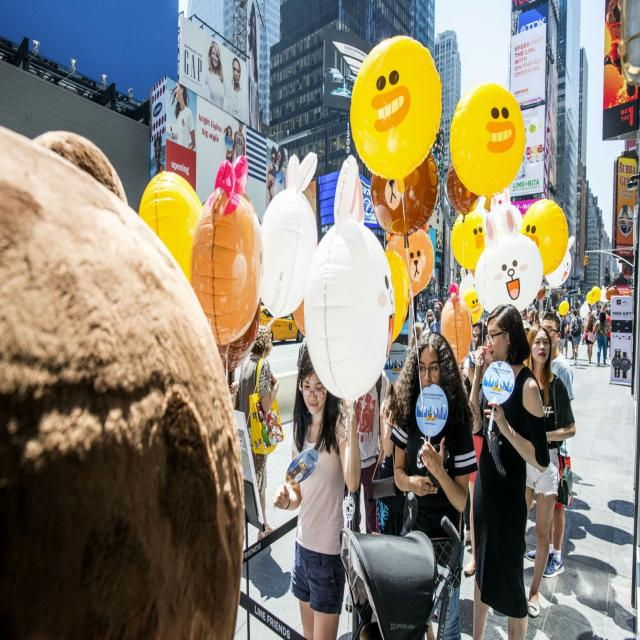body: (0, 123, 241, 637), (380, 330, 479, 640), (466, 302, 551, 640), (146, 2, 292, 195), (272, 338, 362, 640), (522, 322, 577, 618), (526, 313, 574, 579), (344, 368, 392, 612), (456, 317, 498, 582), (238, 323, 286, 543), (370, 378, 407, 534), (560, 301, 612, 358), (592, 312, 612, 366), (417, 297, 446, 331), (520, 300, 560, 322), (570, 308, 585, 366), (581, 312, 598, 363), (359, 619, 382, 640), (429, 301, 443, 334), (410, 322, 423, 349), (556, 323, 559, 357)
